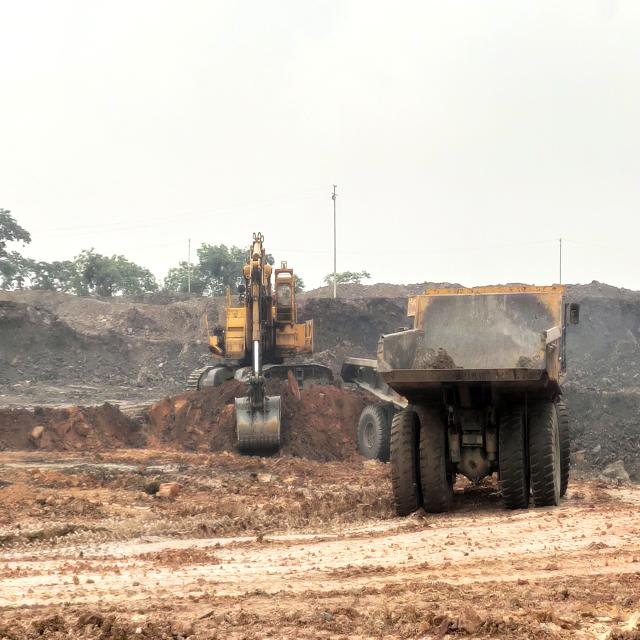dump_truck: (373, 287, 569, 513)
excavator: (190, 233, 314, 458)
